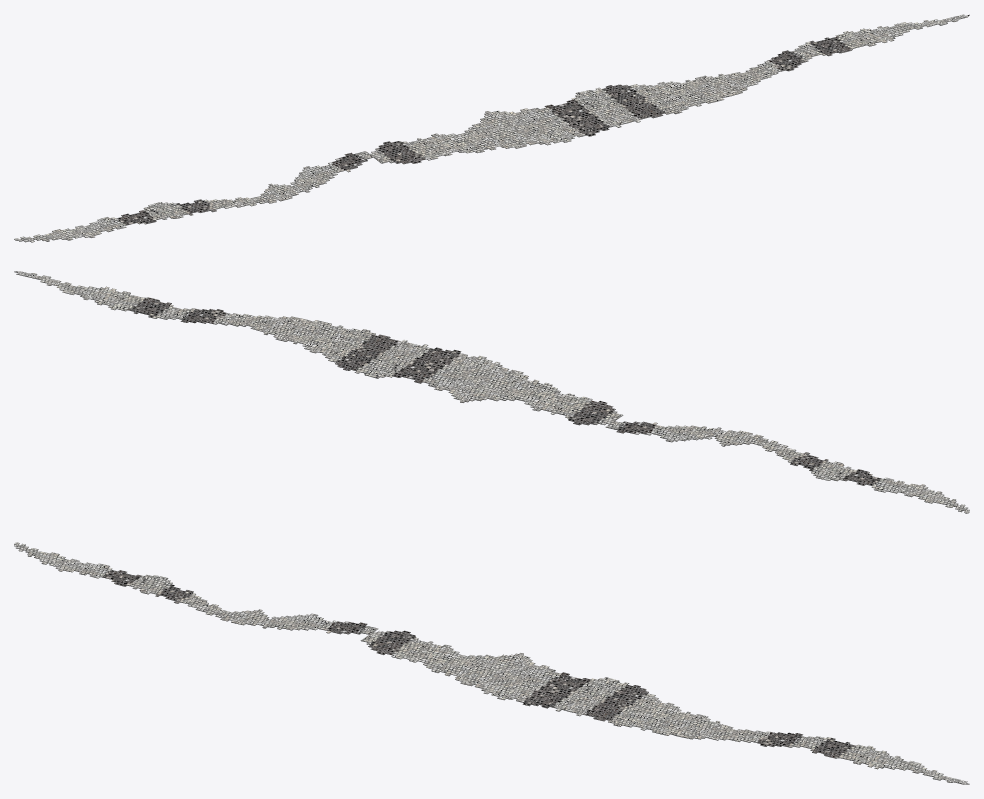
3 views of the same model, one above another, from view 1: azimuth 30°, elevation 25°; view 2: azimuth 150°, elevation 25°; view 3: azimuth 330°, elevation 25° (orthographic).
Parts seen in each view (by area): view 1: LODGroup_1_MainMesh_1_SubMesh_1, LODGroup_1_MainMesh_1_SubMesh_2; view 2: LODGroup_1_MainMesh_1_SubMesh_1, LODGroup_1_MainMesh_1_SubMesh_2; view 3: LODGroup_1_MainMesh_1_SubMesh_1, LODGroup_1_MainMesh_1_SubMesh_2.
Part boxes in pixels (x1,y1,x2,y2): LODGroup_1_MainMesh_1_SubMesh_1: (14,14,969,242); LODGroup_1_MainMesh_1_SubMesh_2: (14,17,964,242); LODGroup_1_MainMesh_1_SubMesh_1: (15,271,969,513); LODGroup_1_MainMesh_1_SubMesh_2: (14,271,969,513); LODGroup_1_MainMesh_1_SubMesh_1: (14,542,969,784); LODGroup_1_MainMesh_1_SubMesh_2: (14,543,960,783).
Bounding box in the file's own units: 1860 × 1.04 × 175.
Materials: 2 (2 with a texture image).
